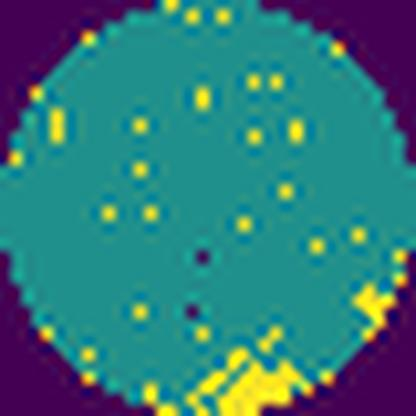Edge-Loc: (184, 342, 318, 416), (353, 280, 398, 343)
